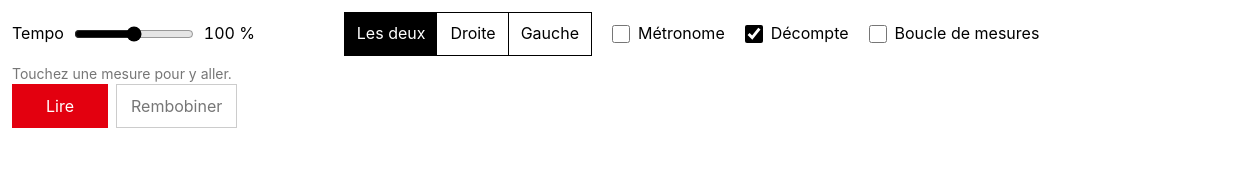
Test: in another language › writes the controls in French, with the tempo in the language's own number style
Expected: the element named "Lecture" is shown, [12,84,237,128]
Expected: the button "Lire" is shown, [12,84,108,128]
Click the checkbox labelled "Boucle de mesures" at (878, 34), box [868,25,886,43]
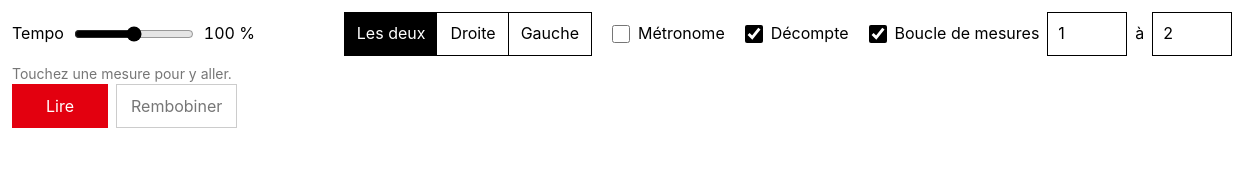
Expected: the number field named "Boucle jusqu’à la mesure" is shown, [1152,12,1232,56]
